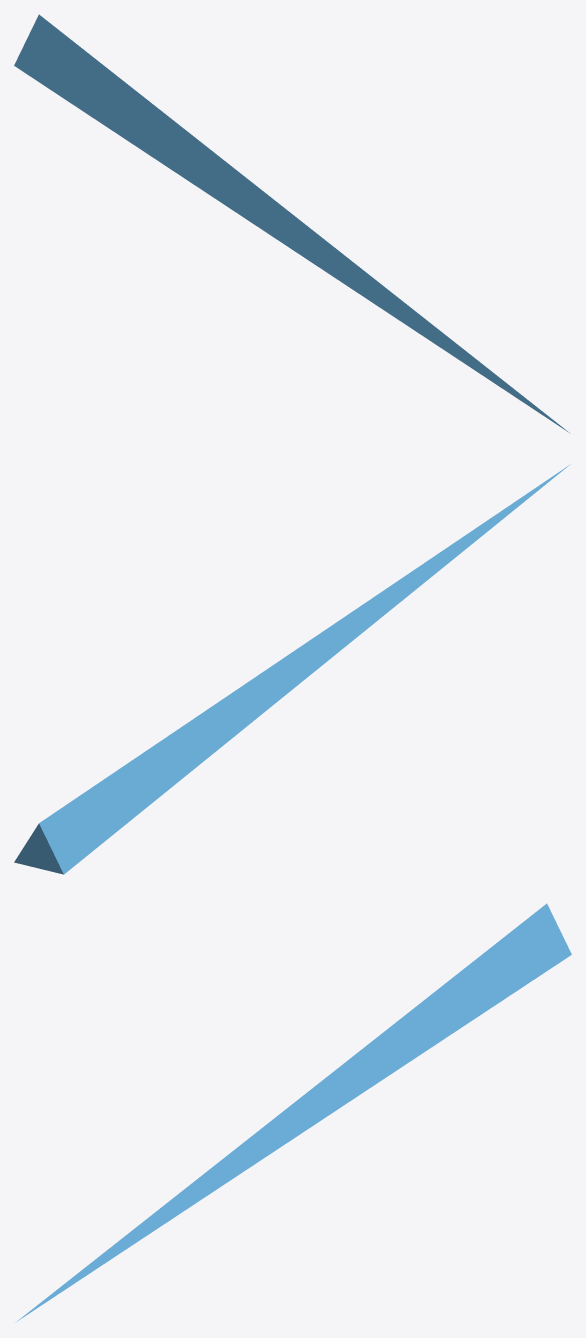
Rendered from CryoKinesis.fbx.
3 views of the same model, one above another, from view 1: azimuth 30°, elevation 25°; view 2: azimuth 150°, elevation 25°; view 3: azimuth 330°, elevation 25° (orthographic).
Parts seen in each view (by area): view 1: Cone; view 2: Cone; view 3: Cone.
Part boxes in pixels (box(x1,y1,x2,y2)): Cone: box(14, 14, 570, 433); Cone: box(14, 464, 570, 874); Cone: box(15, 903, 571, 1322).
Size of the model in its own units: 43.3 by 37.5 by 800.
